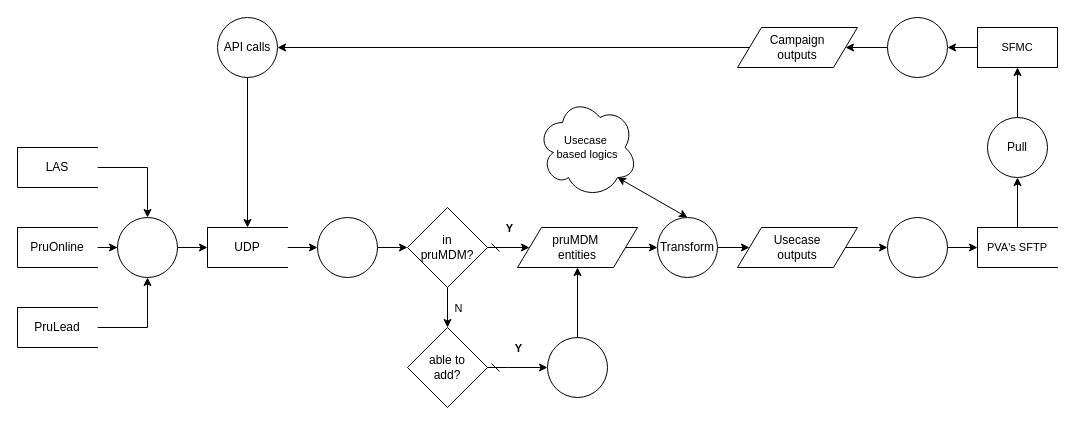
Some shapes in this 1075 by 425 pixel diagram are drawn without their labels. The centre of each missing label's shape, as x and y in pixels:
"Enhance" belongs at point 577,367.
"Ingestion" belongs at point 147,247.
"Mapping" belongs at point 347,247.
"Push" belongs at point 917,247.
"Trigger campaign" belongs at point 917,47.
